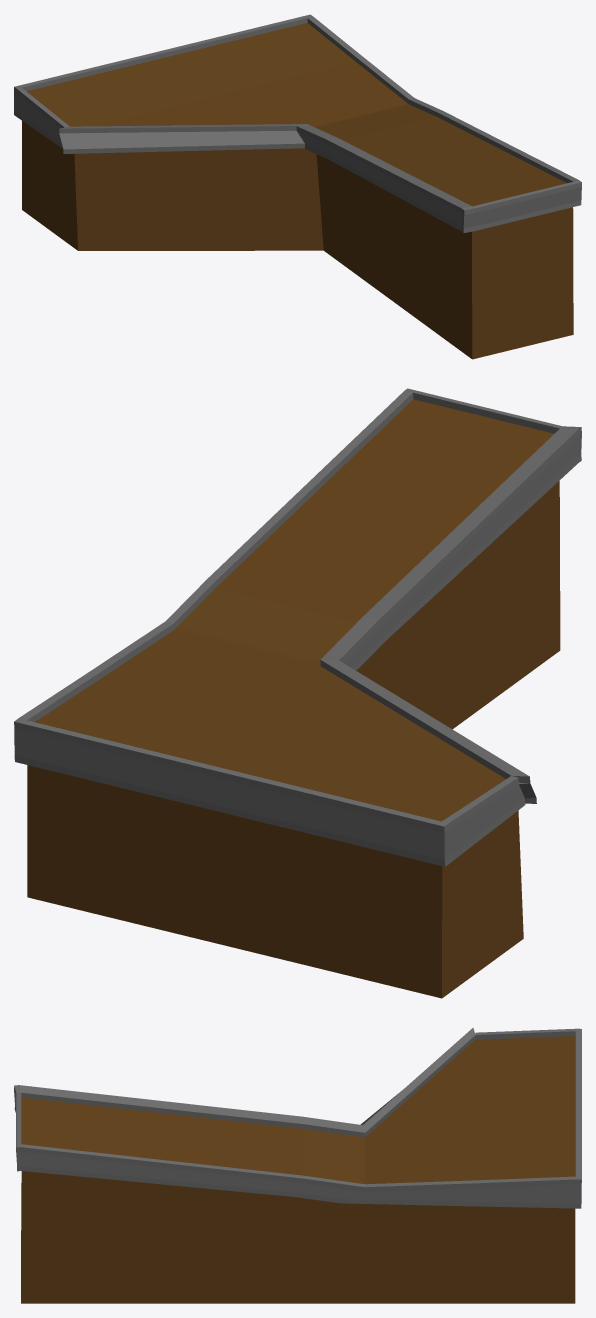
File: Front Desk.fbx
The picture shows the model from 3 angles, top to bottom: view 1: azimuth 30°, elevation 25°; view 2: azimuth 150°, elevation 25°; view 3: azimuth 270°, elevation 25°; orthographic projection. The views are drawn at different scales.
Parts seen in each view (by area): view 1: Cube; view 2: Cube; view 3: Cube.
Part boxes in pixels (bbox=[...]): Cube: bbox=[14, 14, 581, 359]; Cube: bbox=[14, 388, 581, 998]; Cube: bbox=[14, 1028, 581, 1303].
Bounding box in the file's own units: 3000 × 1459 × 4662.
